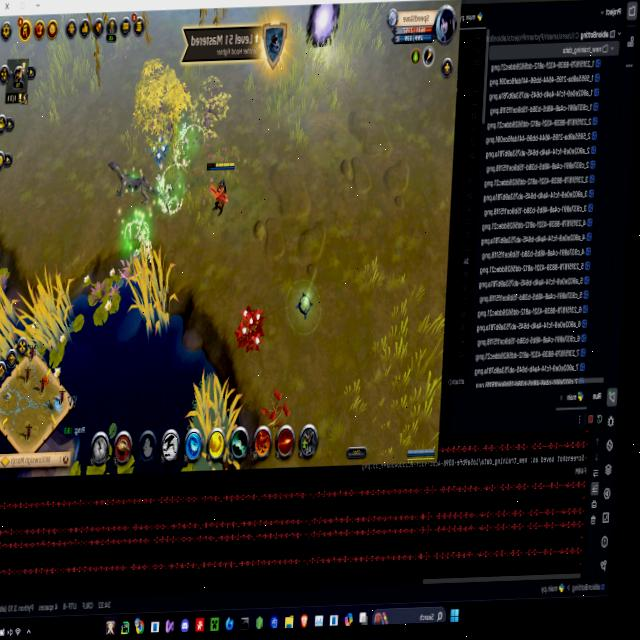hide: (230, 294, 268, 360), (146, 123, 170, 170)
ore: (97, 149, 179, 222)
red: (201, 159, 240, 217), (404, 445, 438, 462)
